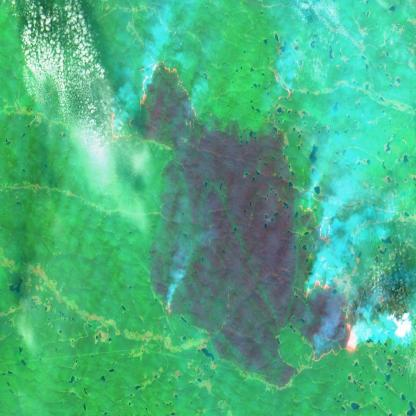fire: (107, 53, 199, 154), (299, 274, 365, 368), (265, 66, 298, 118), (314, 211, 340, 246), (161, 298, 175, 319)
